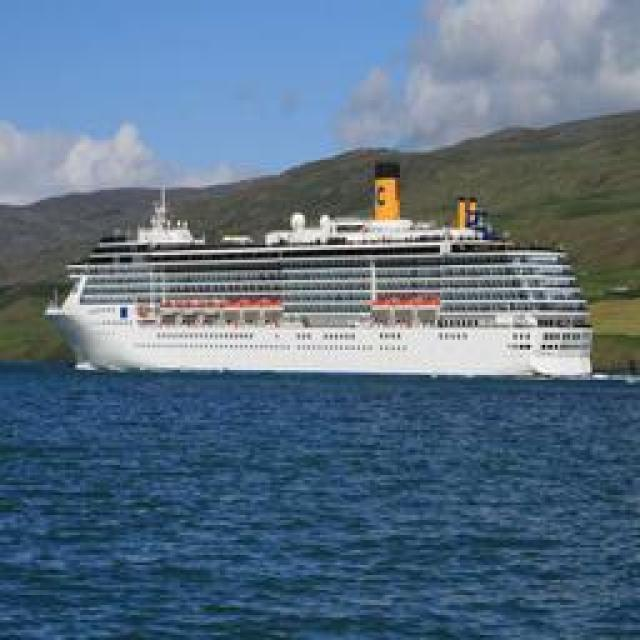ship2: (44, 163, 595, 382)
